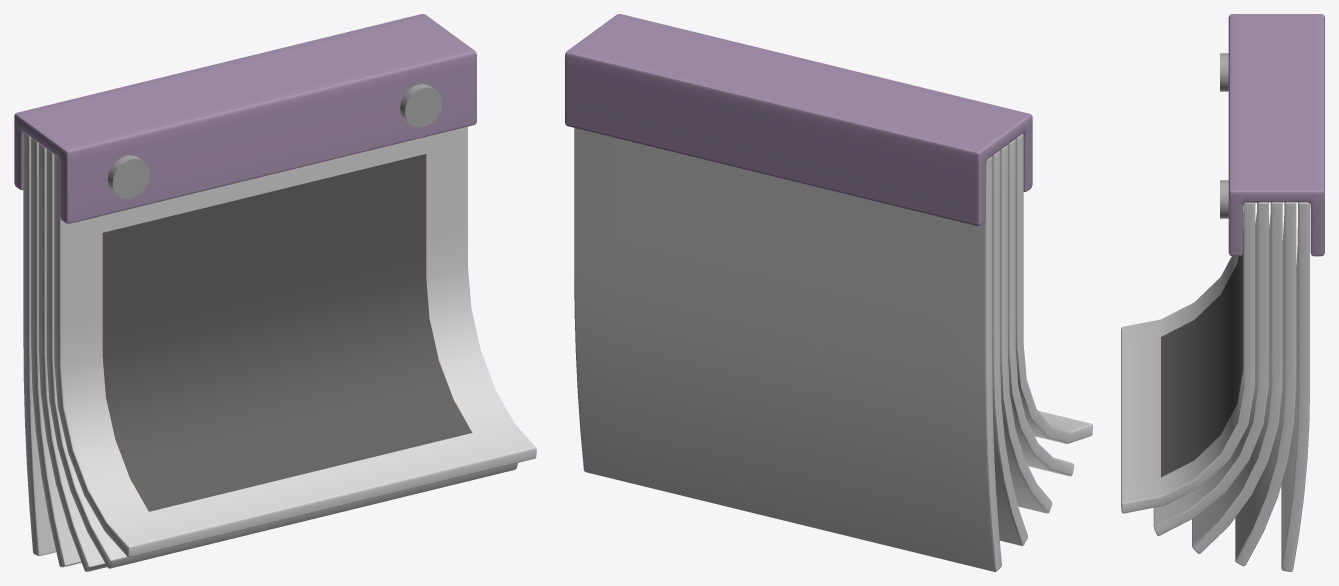
The model's file is calendar (1).fbx.
3 renders of one model, left to right at view 1: azimuth 30°, elevation 25°; view 2: azimuth 150°, elevation 25°; view 3: azimuth 270°, elevation 25°, orthographic. The views are drawn at different scales.
Visible parts, largest first — view 1: pCube5, pCube6, pCube4, pCube3, pCube1, pCube2, pCylinder1, pCylinder2; view 2: pCube1, pCube6, pCube2, pCube3, pCube5, pCube4; view 3: pCube5, pCube6, pCube2, pCube3, pCube4, pCube1, pCylinder1, pCylinder2.
Boxes of the visible parts, x1,y1,x2,y2 form: pCube5: (54,126,536,557); pCube6: (14,14,476,223); pCube4: (46,149,517,568); pCube3: (38,144,106,571); pCube1: (23,132,56,556); pCube2: (31,138,81,567); pCylinder1: (107,155,149,198); pCylinder2: (400,84,442,127); pCube1: (574,128,1001,571); pCube6: (565,14,1032,225); pCube2: (992,151,1027,545); pCube3: (999,145,1052,513); pCube5: (1015,133,1092,443); pCube4: (1007,139,1074,476); pCube5: (1121,202,1255,513); pCube6: (1228,14,1324,256); pCube2: (1235,202,1296,566); pCube3: (1192,202,1282,553); pCube4: (1153,202,1268,535); pCube1: (1281,202,1309,571); pCylinder1: (1220,53,1228,91); pCylinder2: (1220,180,1228,218).
Size of the model in its own units: 7.04 by 7.01 by 3.39.
